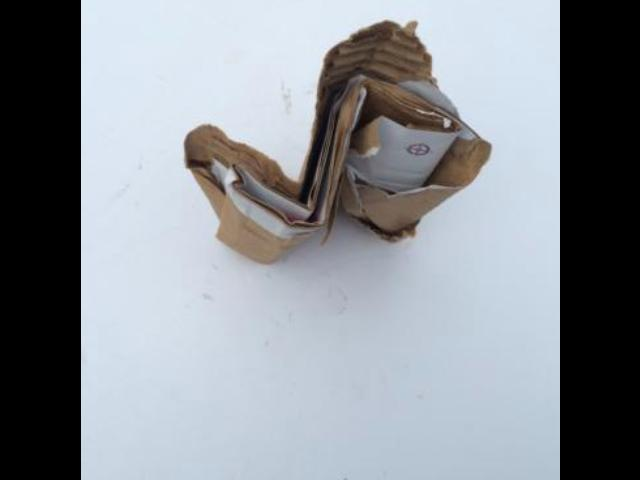cardboard paper: (182, 19, 488, 262)
